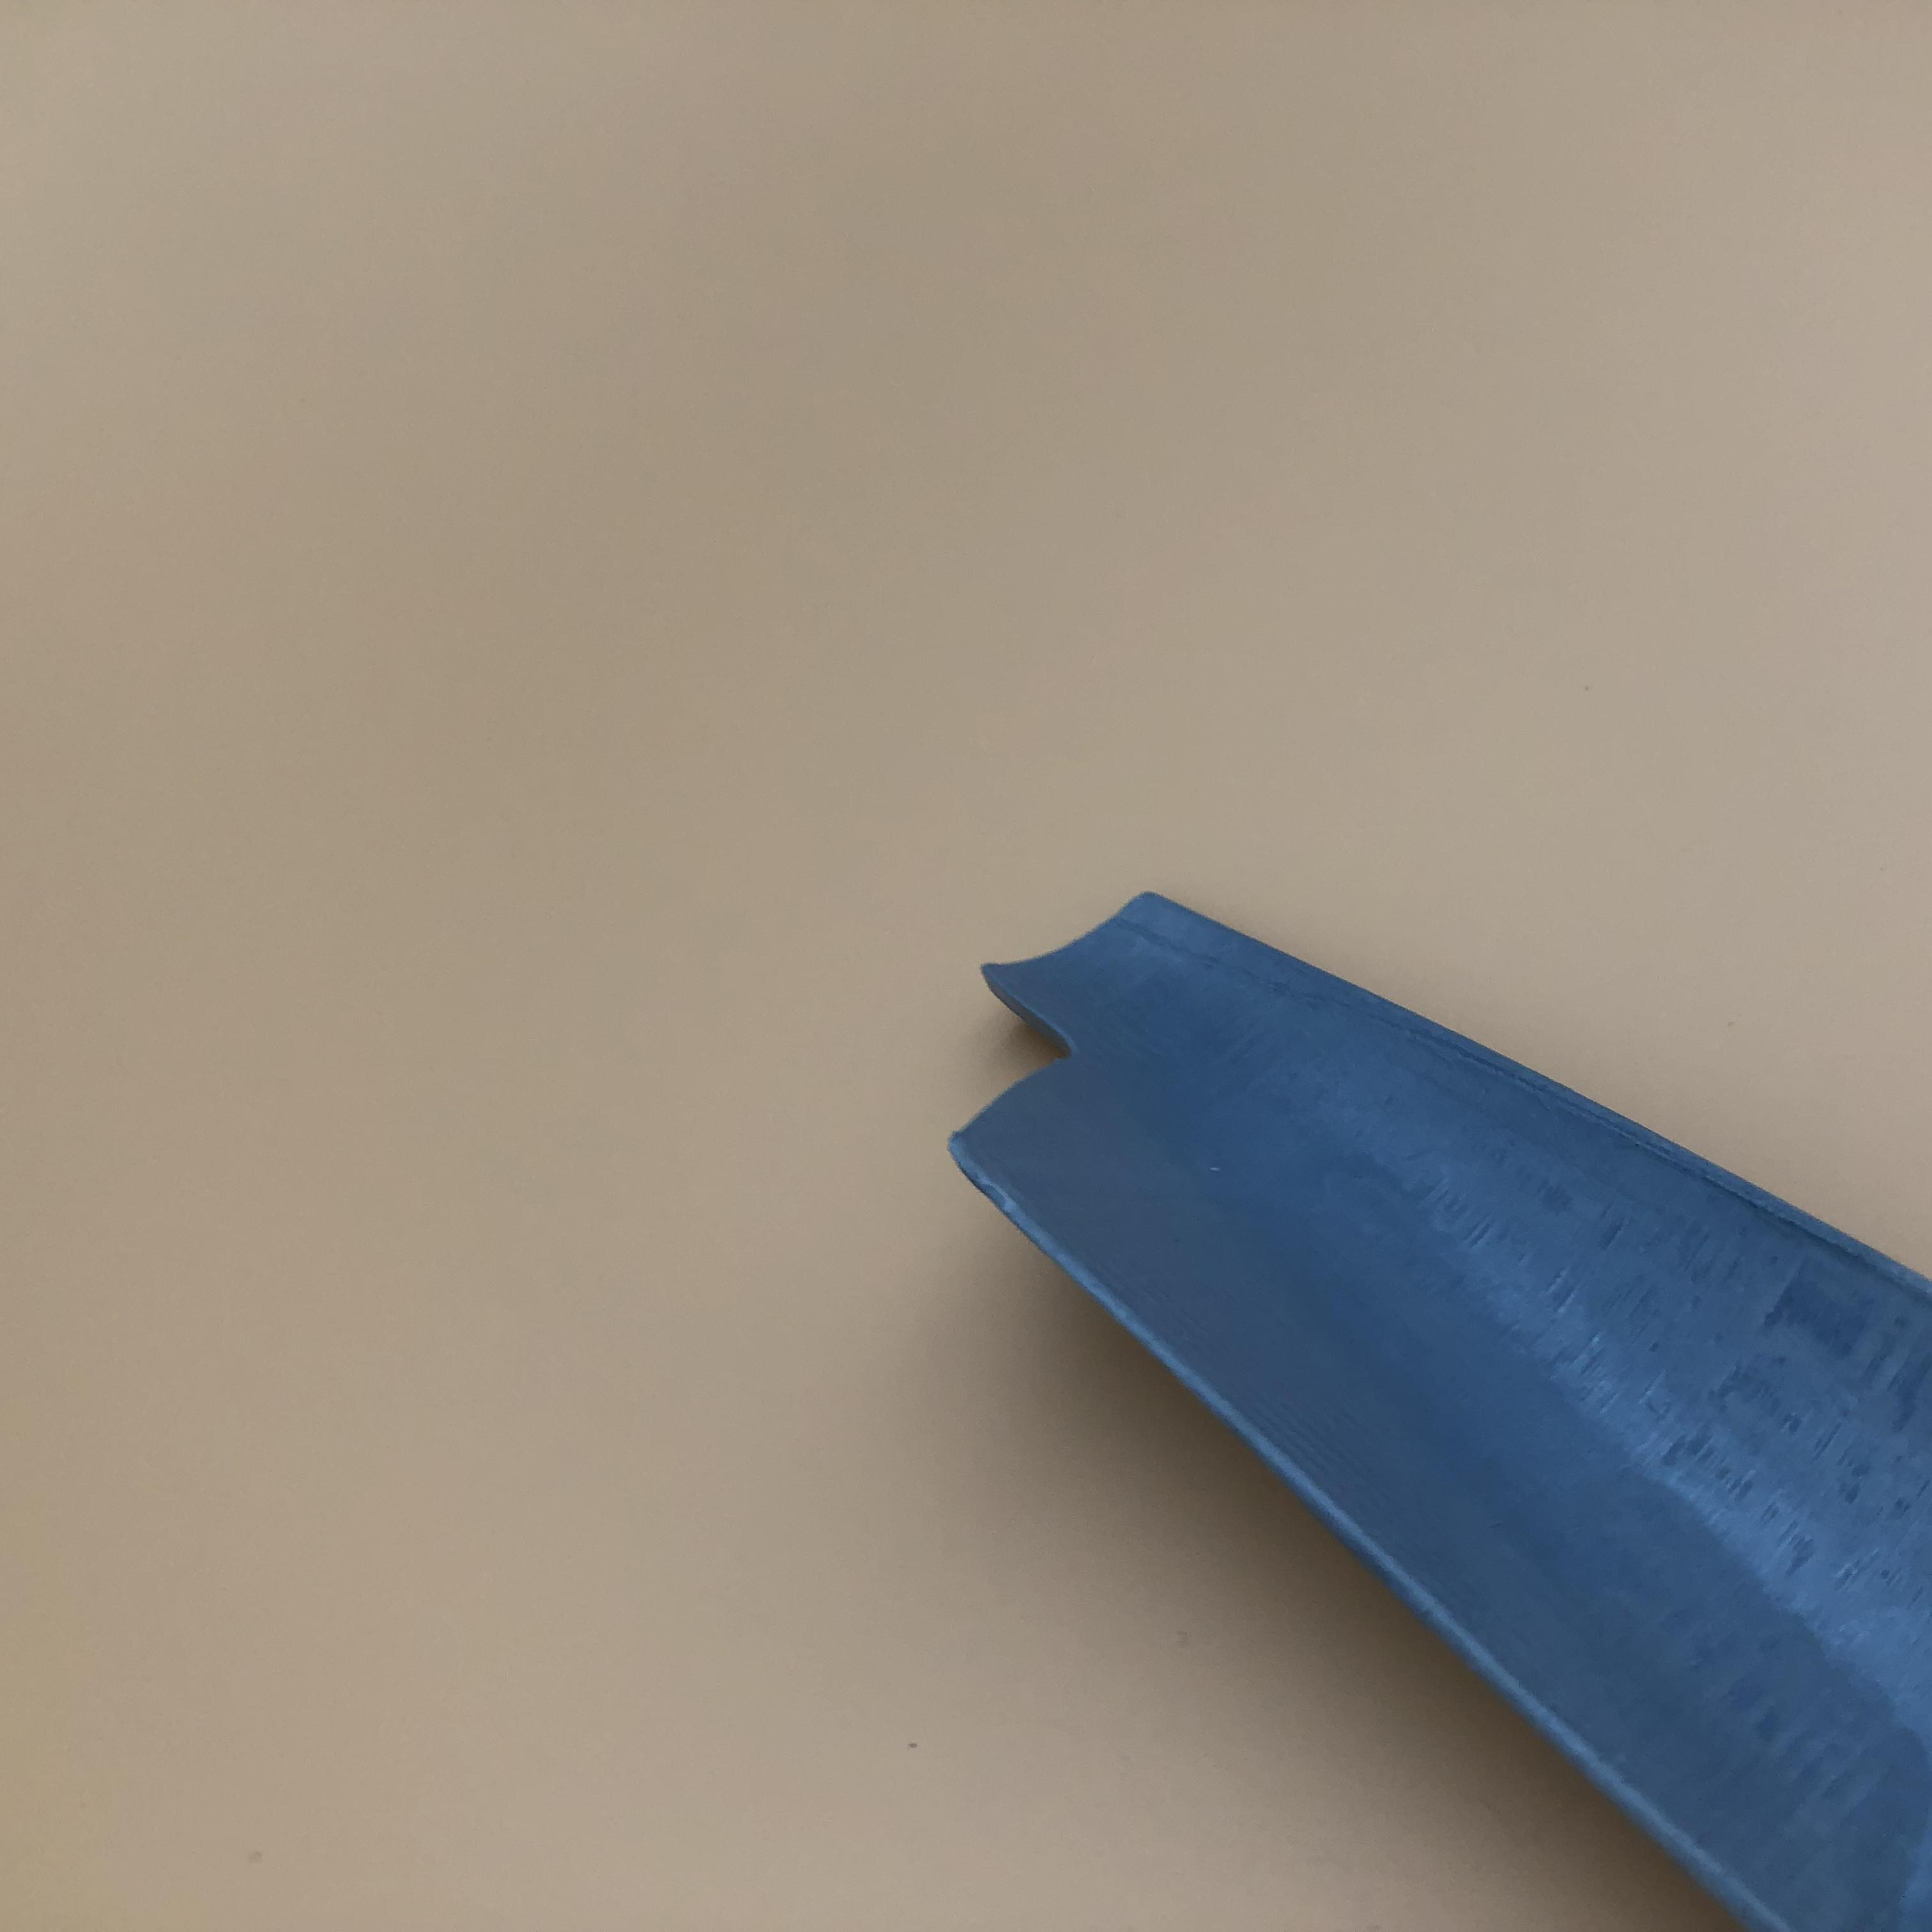fracture: (931, 977, 1123, 1171)
